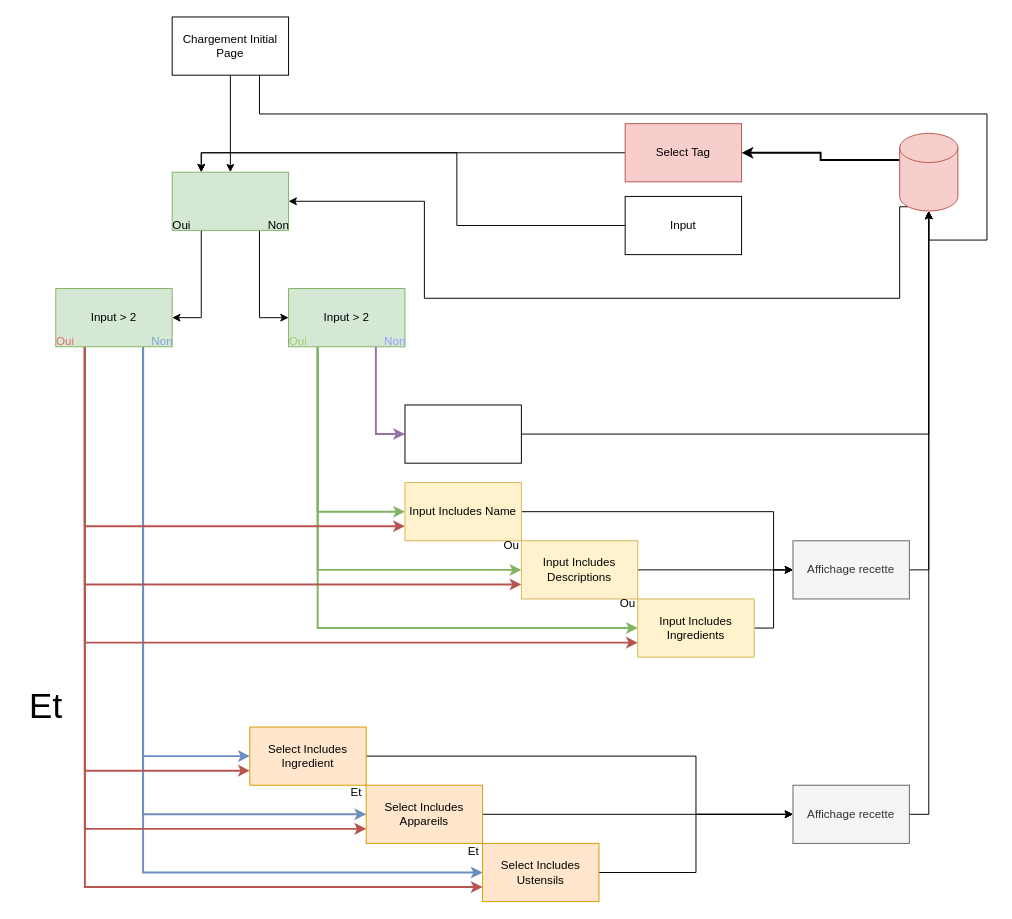
Some shapes in this 1012 by 919 pixel diagram are drawn without their labels. The shapes that lost their labels are listed below. From the top down, each one's box as (x1, y1, x2, y2) in pixels, then its label:
(899, 132, 958, 211): Liste Select
(171, 171, 289, 230): Un tag présent ?
(404, 404, 521, 463): Affichage toute les recettes
